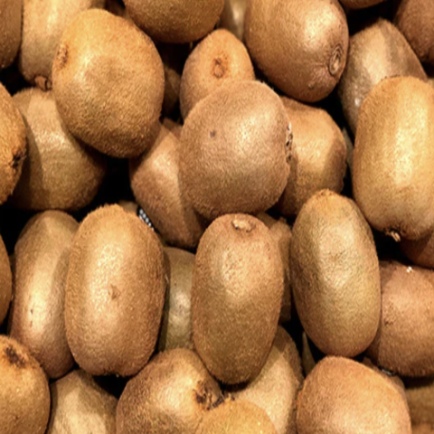kiwi: (175, 75, 317, 225), (61, 199, 172, 389), (43, 5, 170, 169), (276, 182, 399, 351), (188, 205, 288, 394), (343, 68, 434, 233)
